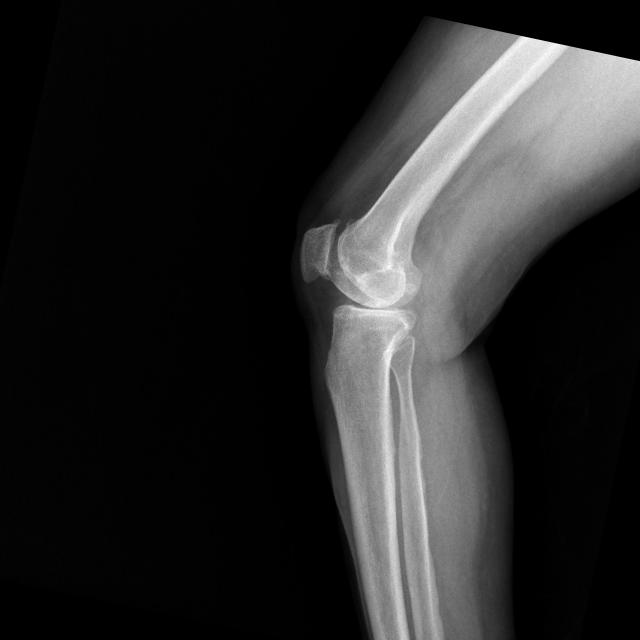Knee: (273, 202, 439, 373)
